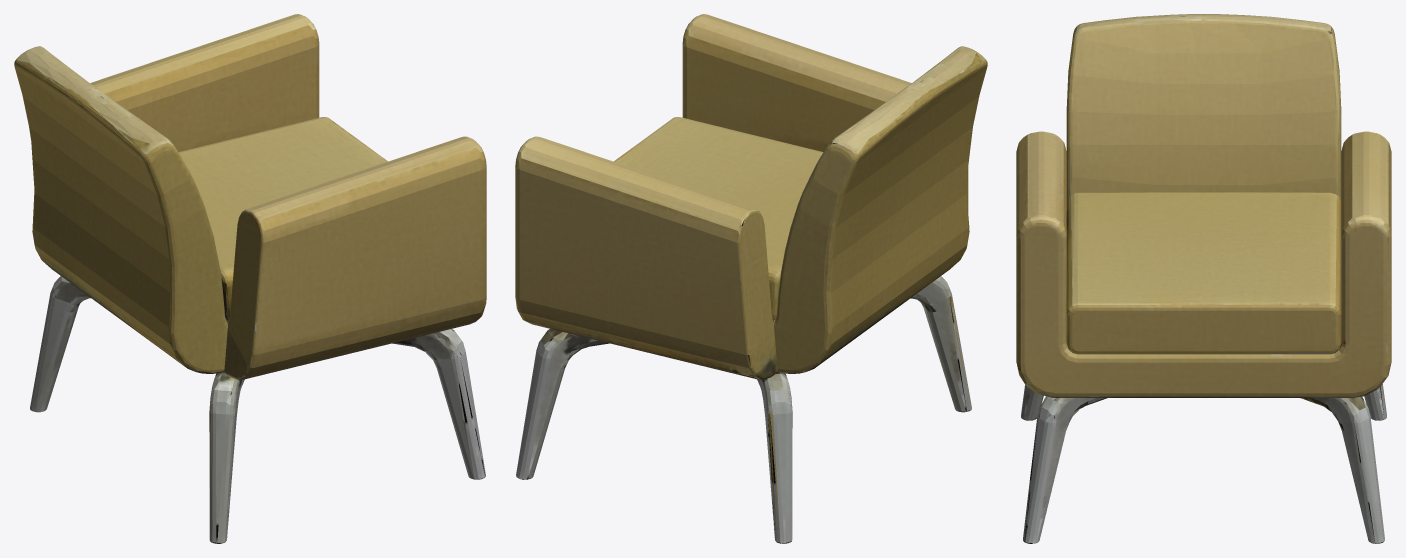
3 views of the same model, side by side, from view 1: azimuth 30°, elevation 25°; view 2: azimuth 150°, elevation 25°; view 3: azimuth 270°, elevation 25° (orthographic). The views are drawn at different scales.
Parts seen in each view (by area): view 1: Node; view 2: Node; view 3: Node.
Boxes of the visible parts, bbox=[...] form: Node: bbox=[14, 14, 486, 543]; Node: bbox=[515, 14, 987, 543]; Node: bbox=[1016, 14, 1391, 543].
Size of the model in its own units: 0.5937 by 0.7 by 0.6186.
Materials: 1 (1 with a texture image).
